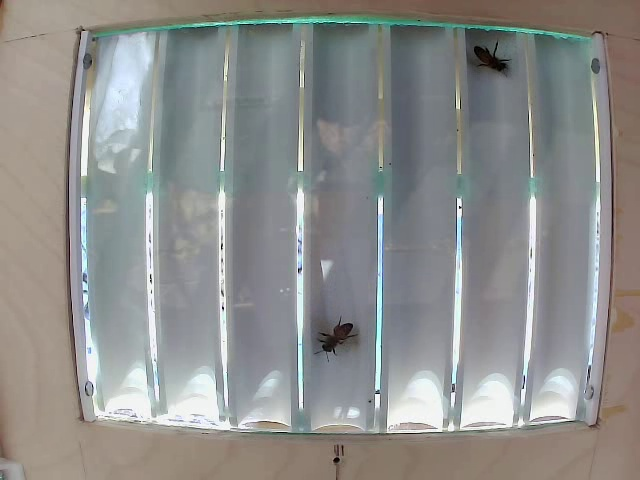bee: (308, 318, 366, 365), (469, 33, 499, 86)
